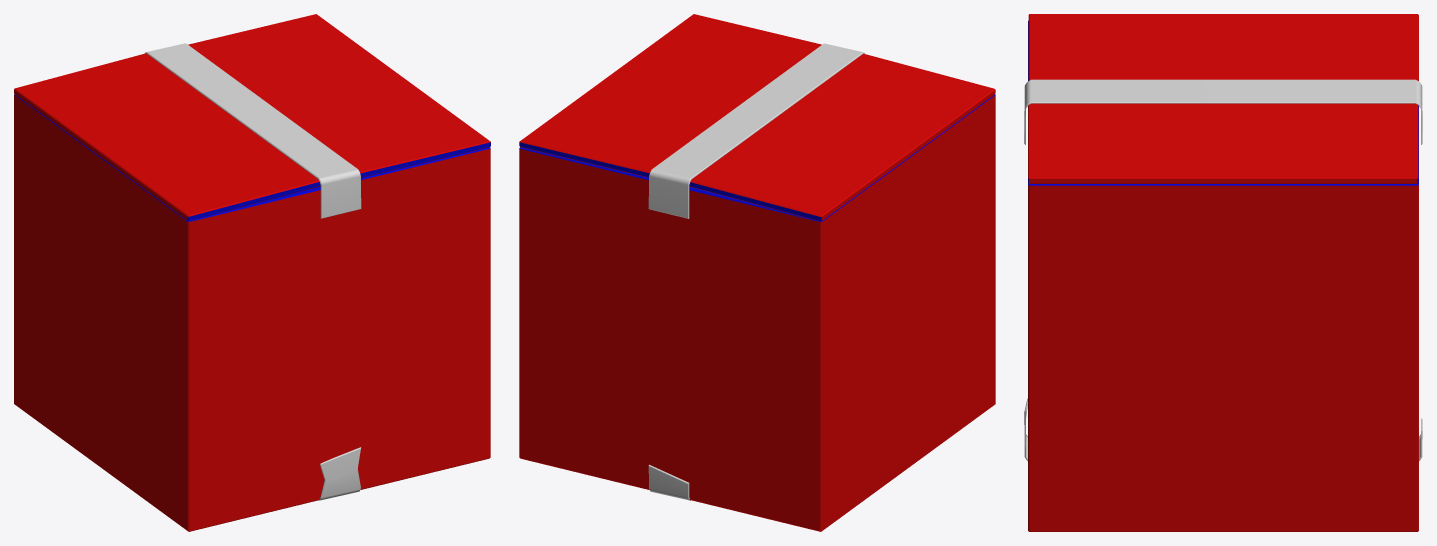
Rendered from BoxClosed (1).fbx.
3 views of the same model, side by side, from view 1: azimuth 30°, elevation 25°; view 2: azimuth 150°, elevation 25°; view 3: azimuth 270°, elevation 25° (orthographic). The views are drawn at different scales.
Visible parts, largest first — view 1: Box_1, CardBoardLid2, CardBoardLid1, Tape, Tape1; view 2: Box_1, CardBoardLid2, CardBoardLid1, Tape, Tape1; view 3: Box_1, CardBoardLid1, CardBoardLid2, Tape.
Boxes of the visible parts, x1=… form: Box_1: x1=14, y1=94, x2=490, y2=531; CardBoardLid2: x1=14, y1=53, x2=320, y2=221; CardBoardLid1: x1=188, y1=14, x2=490, y2=177; Tape: x1=145, y1=43, x2=361, y2=218; Tape1: x1=319, y1=447, x2=360, y2=500; Box_1: x1=519, y1=94, x2=995, y2=531; CardBoardLid2: x1=689, y1=53, x2=995, y2=221; CardBoardLid1: x1=519, y1=14, x2=821, y2=177; Tape: x1=648, y1=43, x2=864, y2=218; Tape1: x1=648, y1=464, x2=690, y2=500; Box_1: x1=1028, y1=20, x2=1418, y2=531; CardBoardLid1: x1=1028, y1=103, x2=1418, y2=183; CardBoardLid2: x1=1028, y1=14, x2=1418, y2=81; Tape: x1=1024, y1=79, x2=1422, y2=144.
Bounding box in the file's own units: 72.48 × 73.96 × 73.78.
